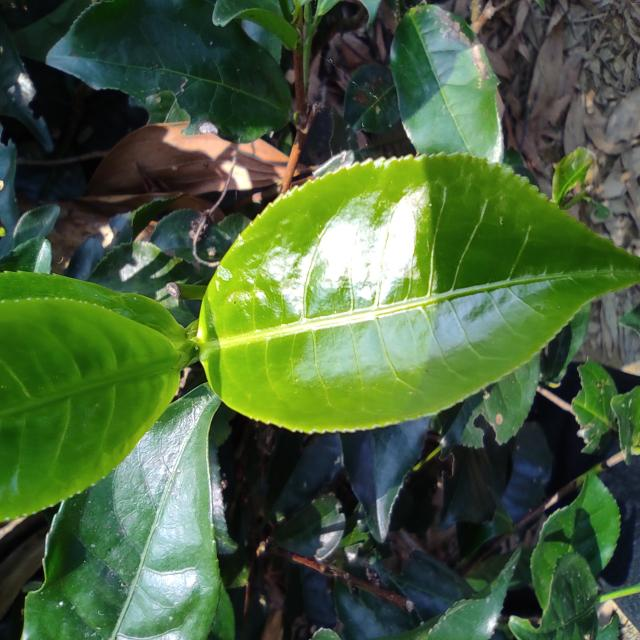Category B(2-4 days): (194, 144, 639, 440)
